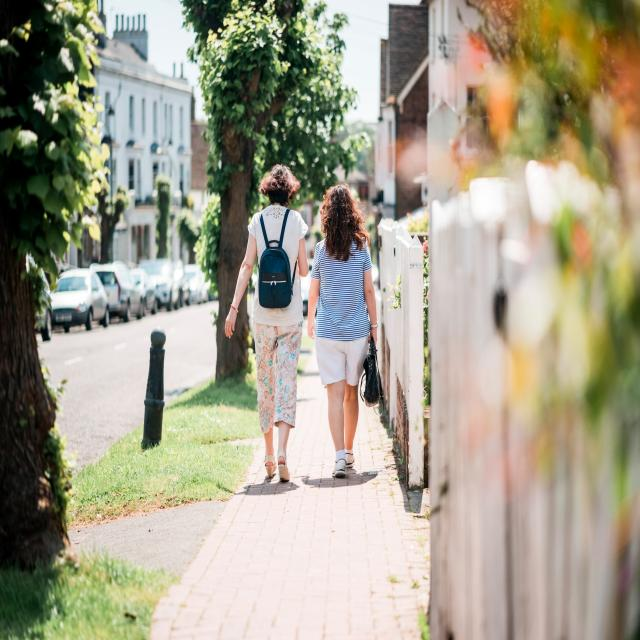adult: (224, 164, 309, 486), (306, 181, 379, 478)
